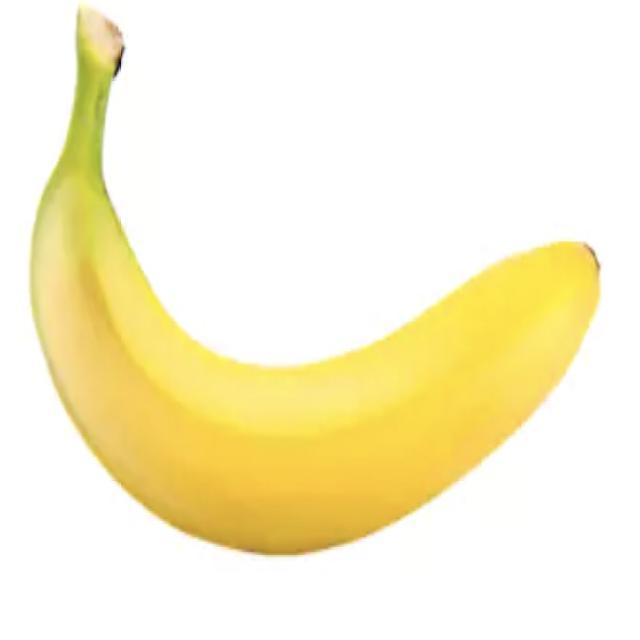Banana: (27, 1, 601, 556)
